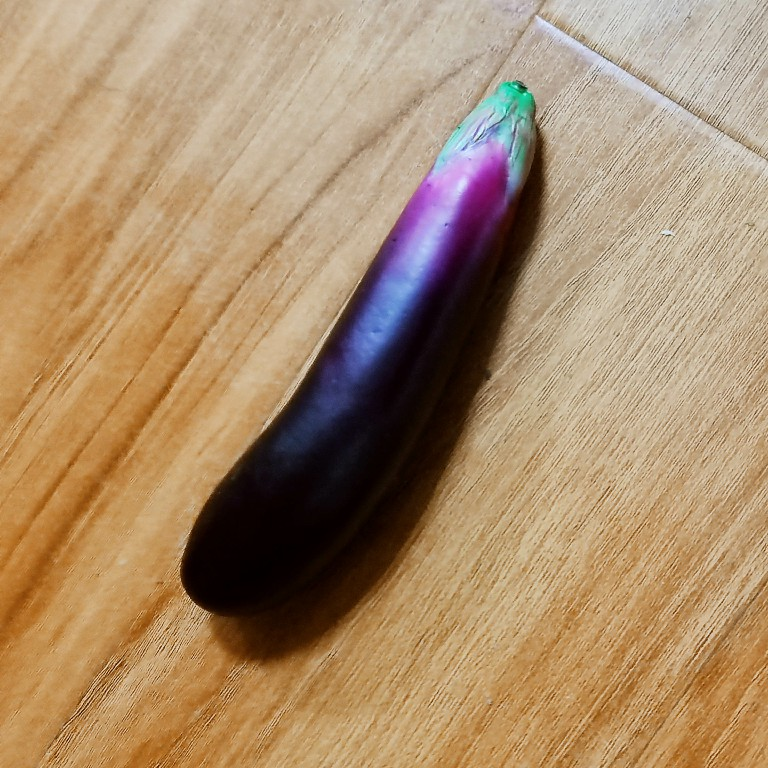fruit_eggplant: (176, 74, 544, 622)
